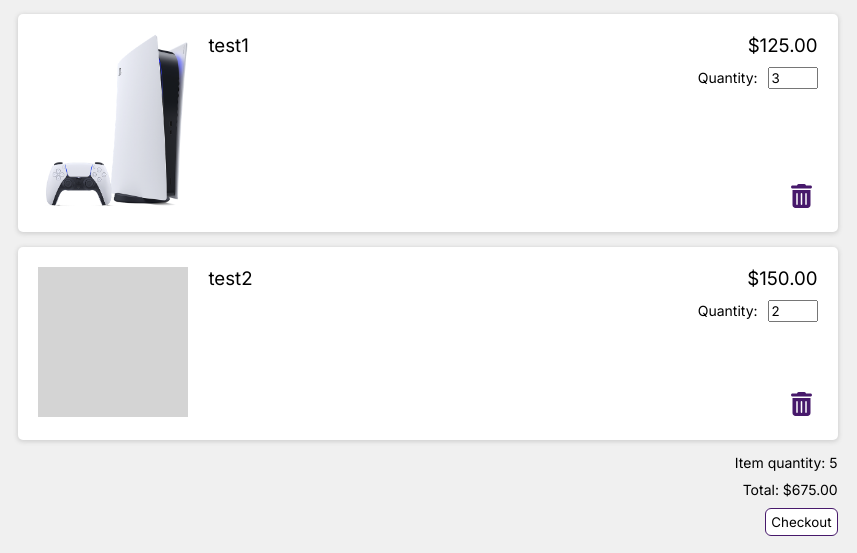
Test: Total quantity is updated after removing an item
This screenshot has width=857, height=553.
Click the button named "Remove item from cart" below "$125.00": (801, 197) top-left (785, 182), bottom-right (818, 212)
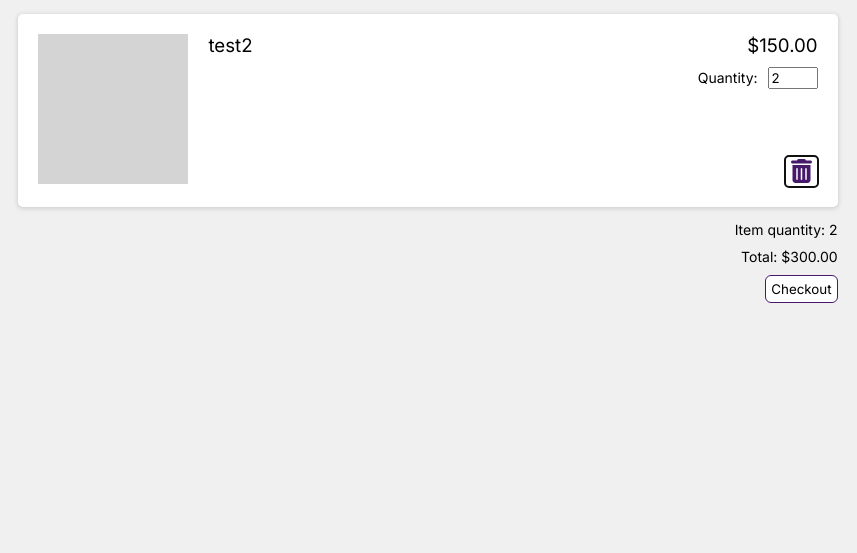
Check: the text with test id "quantity" reads "Item quantity: 2", box top-left (735, 221), bottom-right (838, 238)
